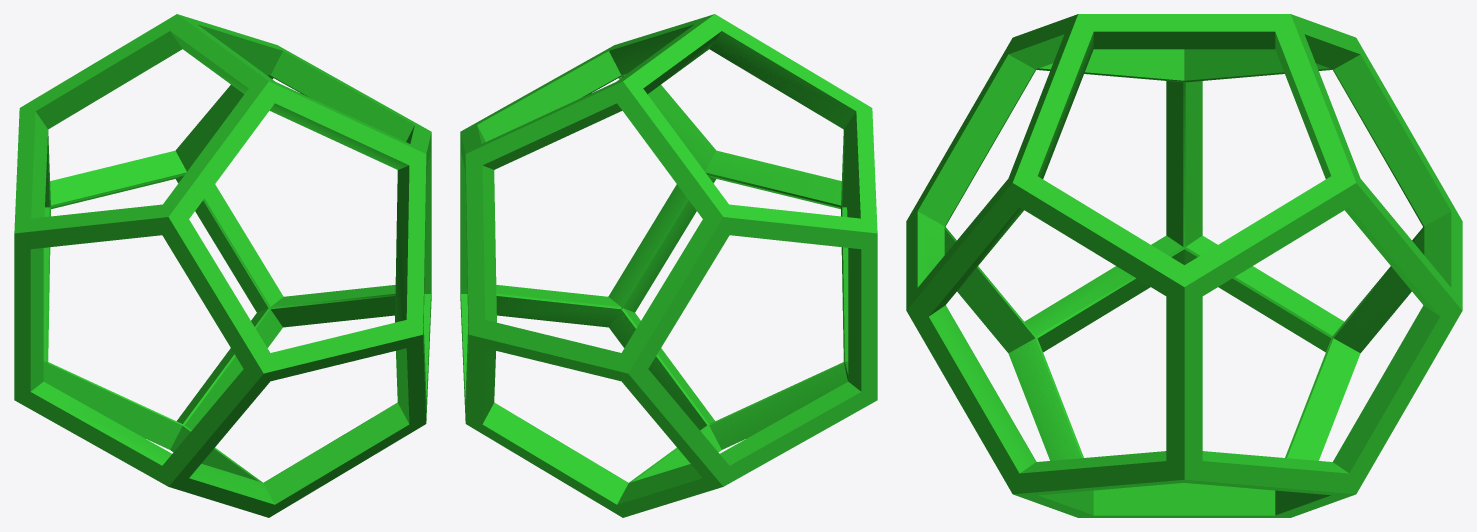
Rendered from StringModel.dae.
3 renders of one model, left to right at view 1: azimuth 30°, elevation 25°; view 2: azimuth 150°, elevation 25°; view 3: azimuth 270°, elevation 25°, orthographic. The views are drawn at different scales.
Visible parts, largest first — view 1: dodecahedron; view 2: dodecahedron; view 3: dodecahedron.
Part boxes in pixels (box(x1,y1,x2,y2)): dodecahedron: box(14, 14, 431, 517); dodecahedron: box(460, 14, 877, 517); dodecahedron: box(906, 14, 1462, 517).
Size of the model in its own units: 1.01 by 1.01 by 1.01.
